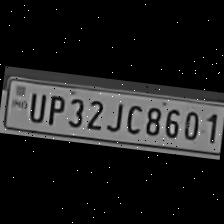0: (180, 106, 202, 140)
1: (199, 108, 221, 142)
2: (82, 94, 106, 130)
3: (63, 92, 85, 128)
6: (160, 102, 181, 138)
8: (140, 101, 162, 137)
C: (121, 98, 144, 134)
J: (103, 94, 125, 132)
P: (42, 89, 66, 126)
U: (24, 86, 47, 121)
